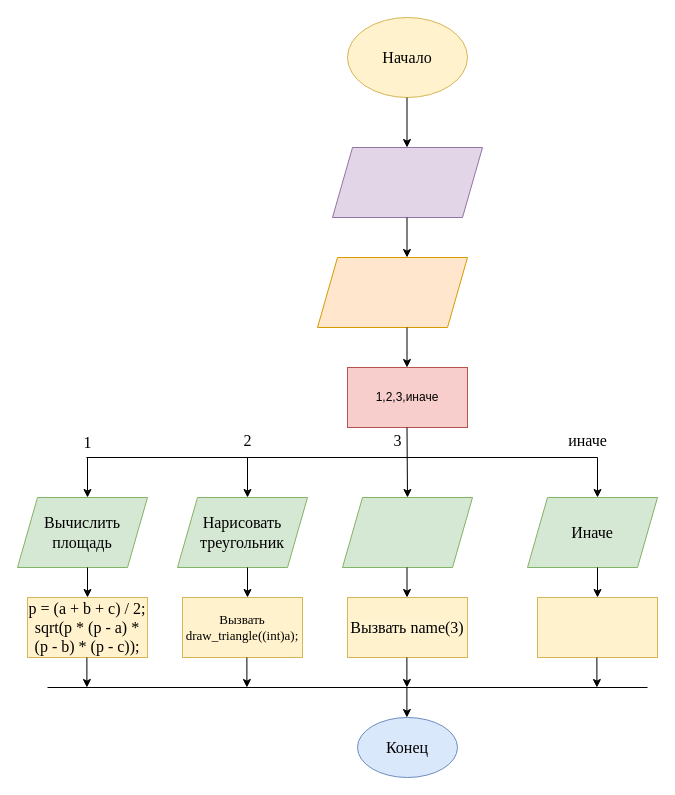
Some shapes in this 675 by 795 pixel diagram are drawn without their labels. Each missing label, with the centre of its shape:
Ввод выбора:: (x=392, y=292)
Ввод сторон a, b, c: (x=407, y=182)
Описание: (x=407, y=532)
Сообщение об ошибке: (x=597, y=627)
